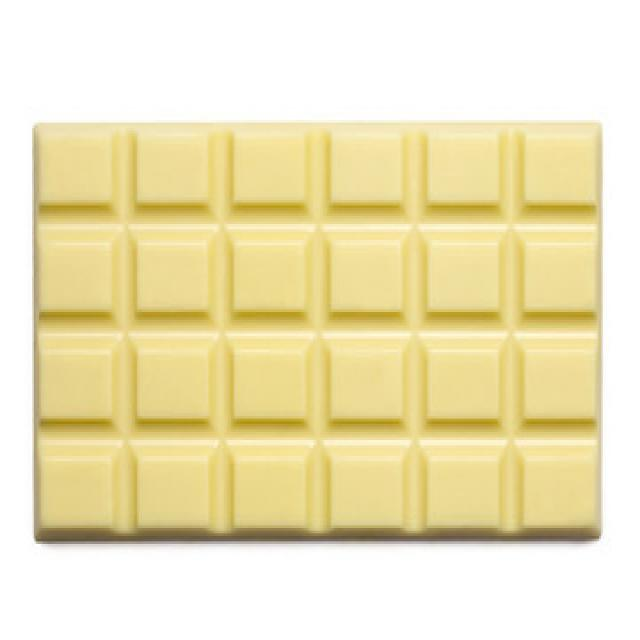Chocolate: (31, 118, 604, 542)
